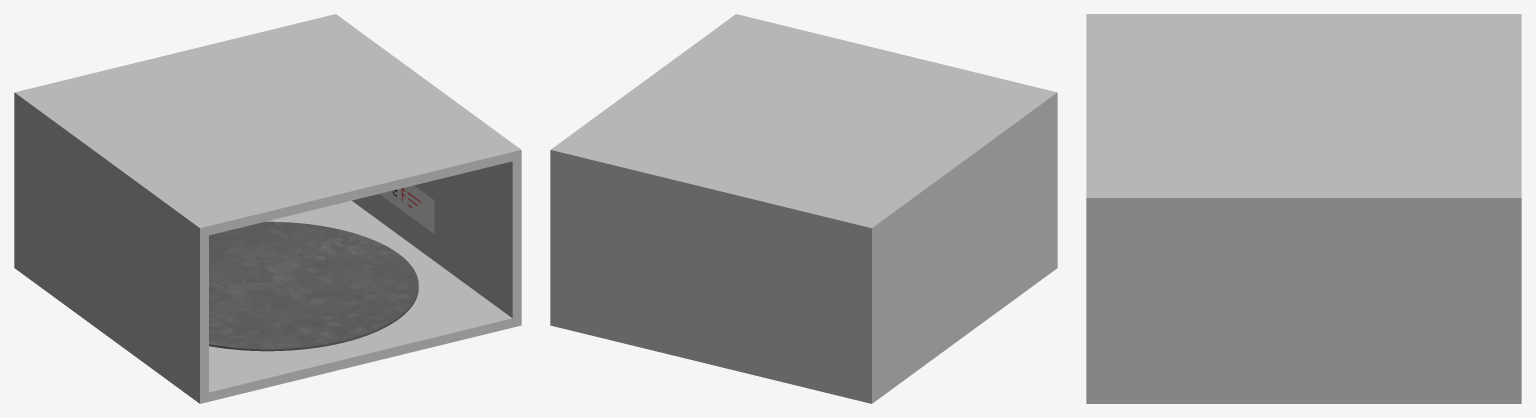
File: garage.obj
3 views of the same model, side by side, from view 1: azimuth 30°, elevation 25°; view 2: azimuth 150°, elevation 25°; view 3: azimuth 270°, elevation 25° (orthographic). The views are drawn at different scales.
Visible parts, largest first — view 1: Walls, Platform, Poster0; view 2: Walls; view 3: Walls.
Boxes of the visible parts, x1,y1,x2,y2 form: Walls: [14, 14, 521, 403]; Platform: [209, 221, 418, 351]; Poster0: [380, 185, 434, 233]; Walls: [550, 14, 1057, 403]; Walls: [1086, 14, 1521, 403].
Size of the model in its own units: 12.3 by 6.43 by 12.3.
